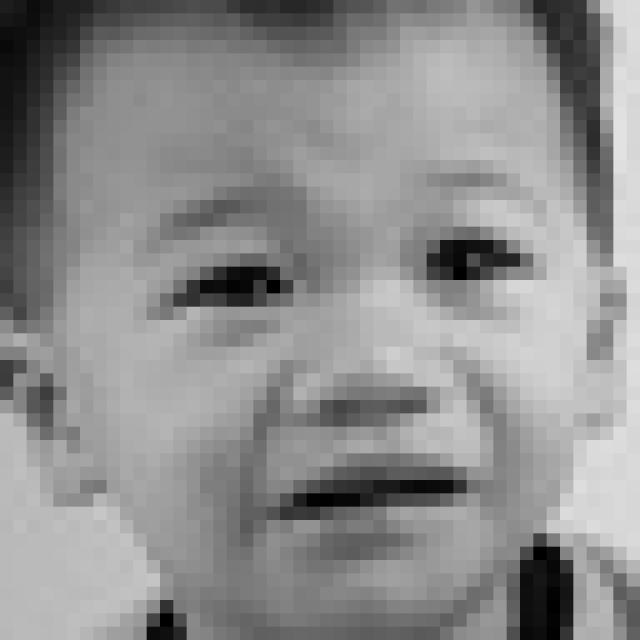sad: (137, 159, 560, 574)
